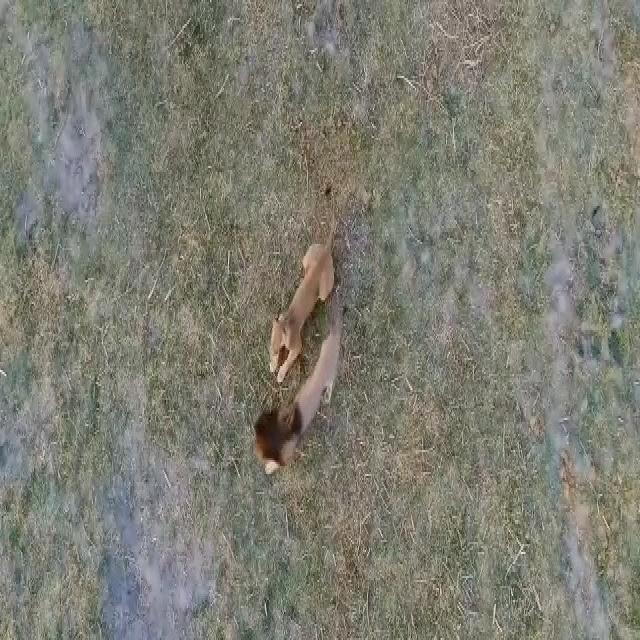Lion: (270, 203, 340, 379), (250, 356, 340, 477)
